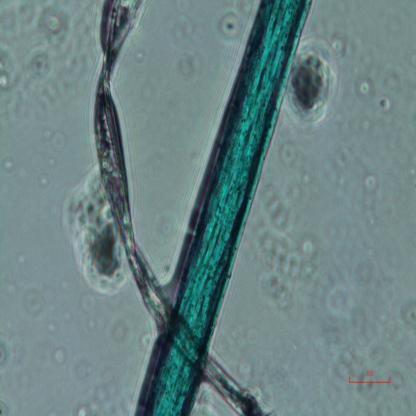Background material: (318, 288, 400, 408), (0, 0, 83, 110), (254, 186, 318, 309), (62, 182, 130, 294), (284, 35, 338, 126), (220, 322, 262, 382), (277, 134, 311, 184), (355, 76, 392, 117), (18, 146, 53, 189), (210, 6, 250, 42), (20, 278, 47, 323), (173, 45, 205, 81), (67, 349, 92, 389), (361, 166, 384, 197), (41, 124, 67, 151), (46, 342, 70, 367), (399, 298, 416, 329), (170, 23, 196, 42), (110, 318, 127, 345), (2, 156, 18, 177), (0, 338, 10, 365)
Cotton: (87, 0, 266, 416)
Microfibre: (139, 0, 314, 414)
